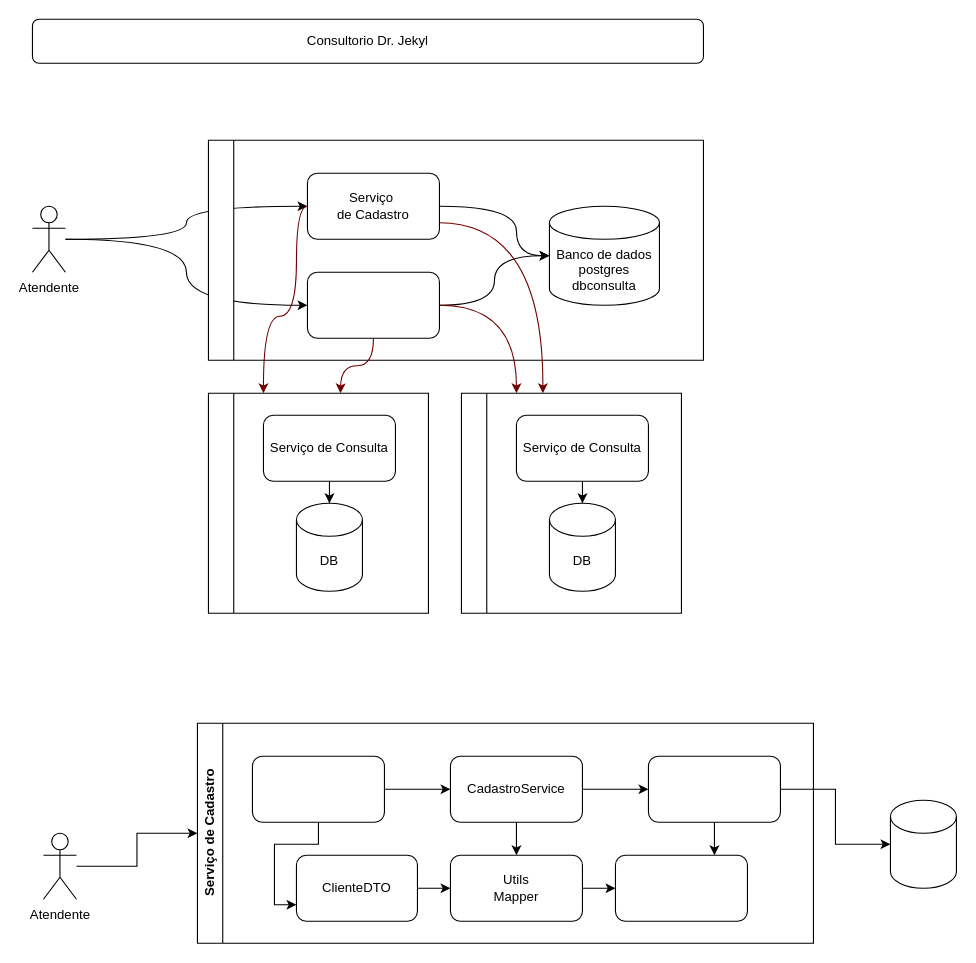
Some shapes in this 976 by 963 pixel diagram are drawn without their labels. The shapes that lost their labels are listed below. From the top down, each one's box as (x1, y1, x2, y2) in pixels, then its label:
(207, 139, 703, 360): SisConsulta
(306, 271, 439, 338): Serviço de Agendamento
(207, 392, 428, 613): SaudeBoa Planos
(460, 392, 681, 613): Vida Longa Planos
(251, 755, 384, 822): (Controller) CadastroResource
(647, 755, 780, 822): CadastroRepository
(614, 854, 747, 921): ClienteEntity
